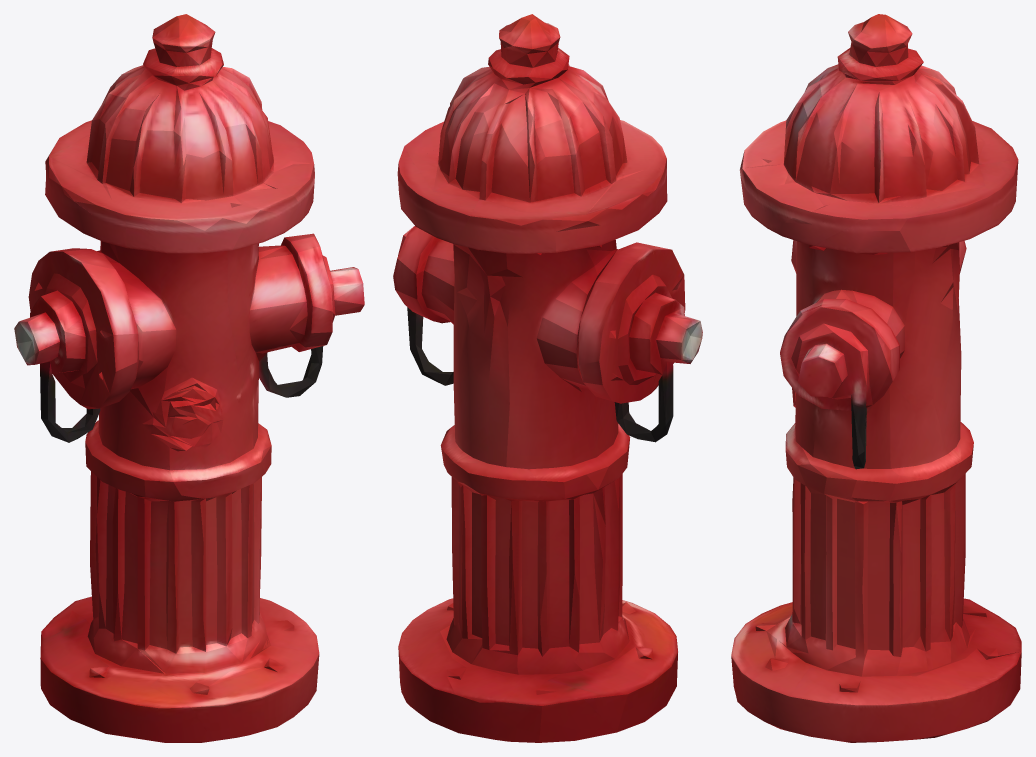
The model's file is fw_prop_hydrant_a.glb.
3 renders of one model, left to right at view 1: azimuth 30°, elevation 25°; view 2: azimuth 150°, elevation 25°; view 3: azimuth 270°, elevation 25°, orthographic.
Visible parts, largest first — view 1: model; view 2: model; view 3: model.
Boxes of the visible parts, box(x1,y1,x2,y2) form: model: box(14, 14, 364, 742); model: box(393, 14, 702, 742); model: box(731, 14, 1021, 742).
Size of the model in its own units: 0.3897 by 0.8 by 0.3115.
Materials: 1 (1 with a texture image).
